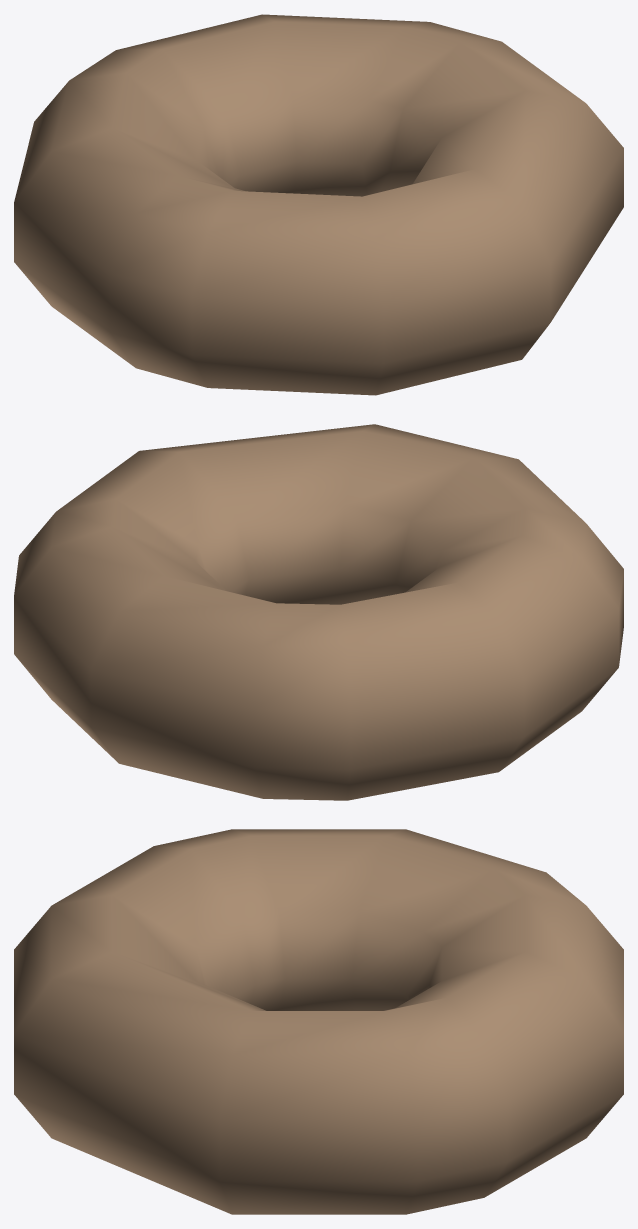
Rendered from FatItem.fbx.
3 views of the same model, one above another, from view 1: azimuth 30°, elevation 25°; view 2: azimuth 150°, elevation 25°; view 3: azimuth 270°, elevation 25° (orthographic). The views are drawn at different scales.
Visible parts, largest first — view 1: pTorus1; view 2: pTorus1; view 3: pTorus1.
Boxes of the visible parts, x1=… form: pTorus1: x1=14, y1=14, x2=623, y2=395; pTorus1: x1=14, y1=424, x2=623, y2=800; pTorus1: x1=14, y1=829, x2=623, y2=1214.
Bounding box in the file's own units: 2.81 × 1 × 2.81.
